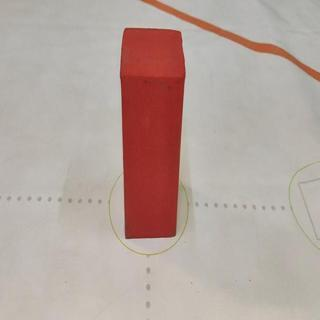redbox: (120, 26, 186, 238)
